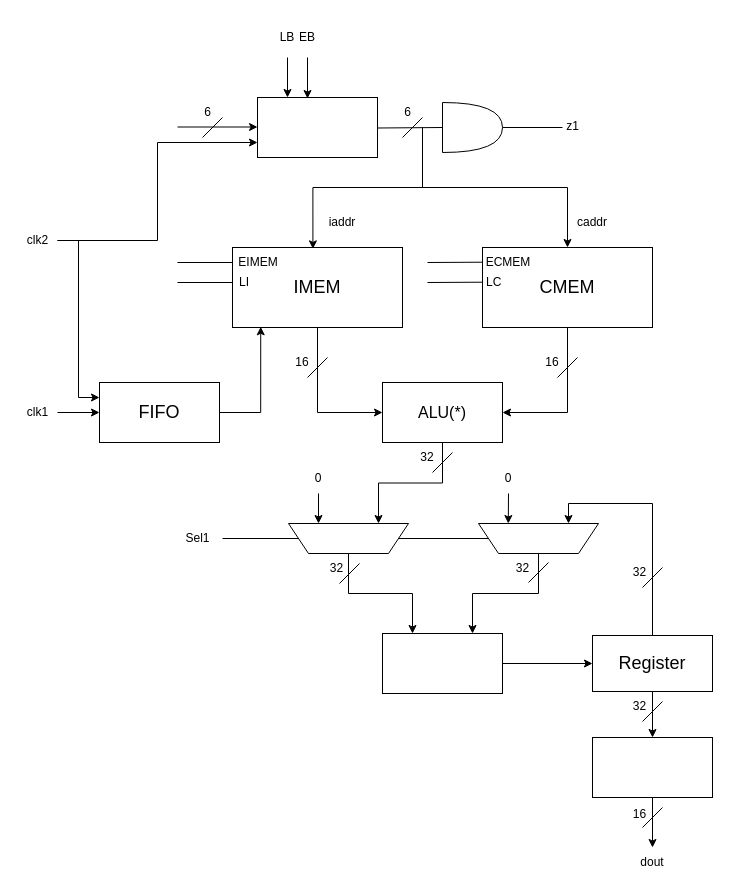
This 730x894 diagram has some shape labels left out. Here are the shapes that lost their labels. From the top down, the box of each, then its label:
(256, 96, 378, 158): Counter
(382, 632, 502, 694): ALU(+)
(592, 736, 712, 798): fx2fp
